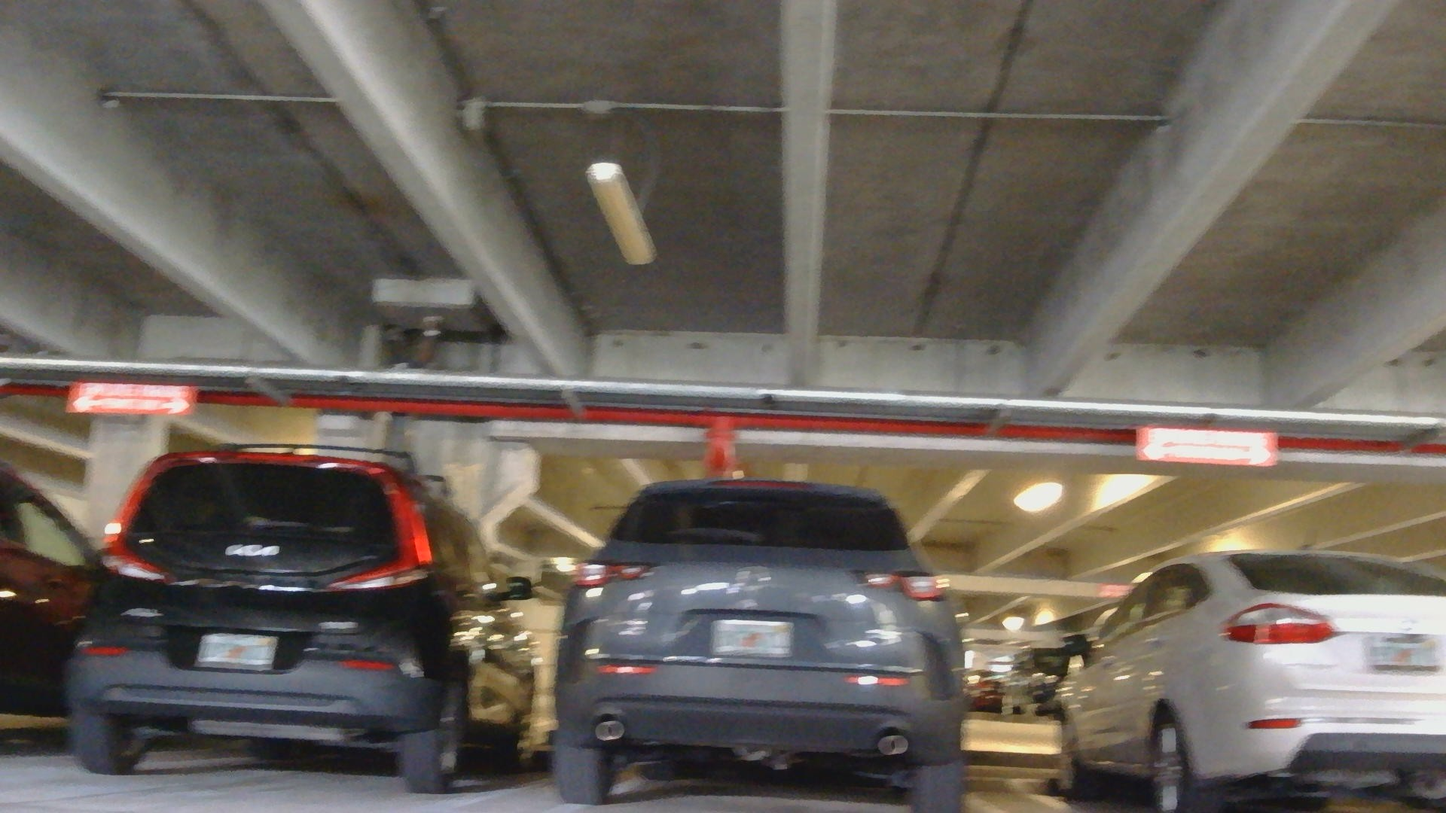occupied_spot: (43, 433, 553, 812), (542, 472, 974, 812), (1040, 545, 1445, 812)
